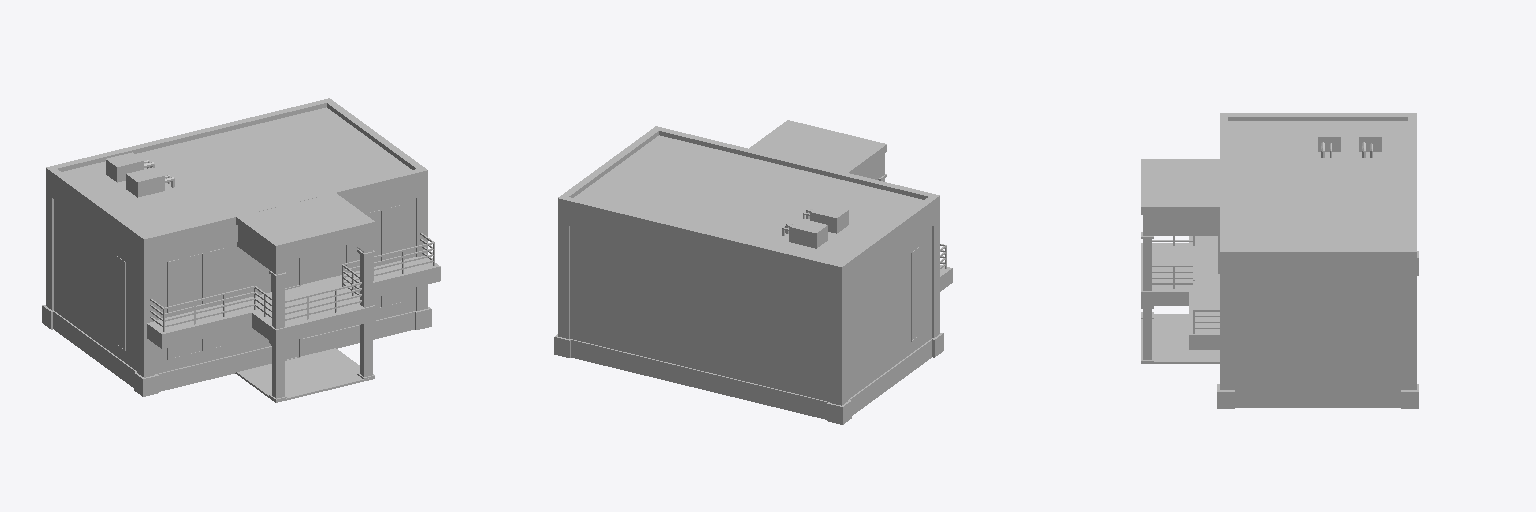
The model's file is Building_House_03_color01.obj.
The picture shows the model from 3 angles: view 1: azimuth 30°, elevation 25°; view 2: azimuth 150°, elevation 25°; view 3: azimuth 270°, elevation 25°; orthographic projection.
Visible parts, largest first — view 1: Building_House_03_color01; view 2: Building_House_03_color01; view 3: Building_House_03_color01.
Boxes of the visible parts, <box> form: Building_House_03_color01: <box>42,98,440,402</box>; Building_House_03_color01: <box>554,120,952,424</box>; Building_House_03_color01: <box>1141,113,1418,408</box>.
Size of the model in its own units: 679 by 378 by 567.